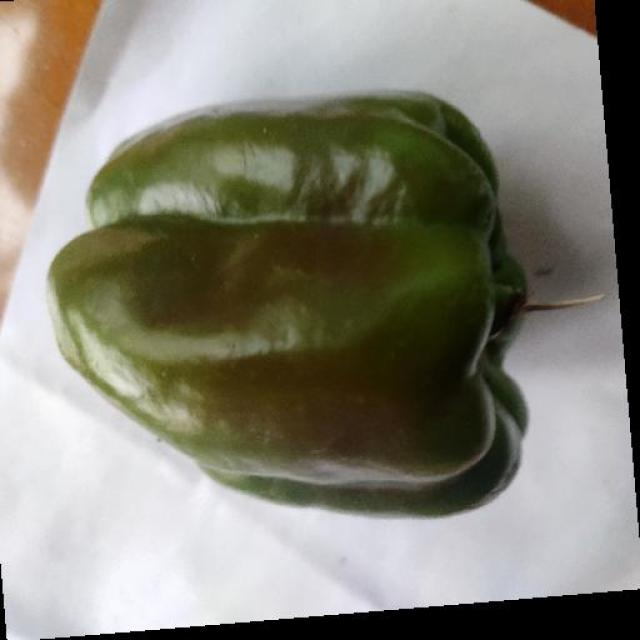Stale_Capsicum: (74, 95, 547, 507)
